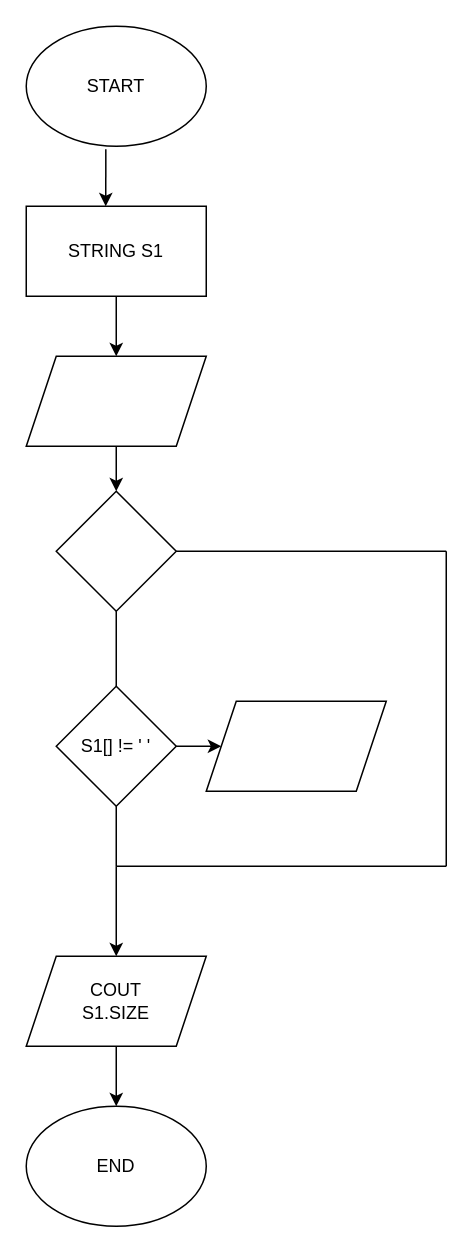
Image size: 474x1253. Some labels were removed from this diagram. The shapes that lost their labels are listed below. From the top down, each one's box as (x1, y1, x2, y2) in pixels, then its label:
(25, 355, 206, 446): CIN S1
(55, 490, 176, 611): FOR 0 < S1.SIZE
(205, 700, 386, 791): COUT S1[]
